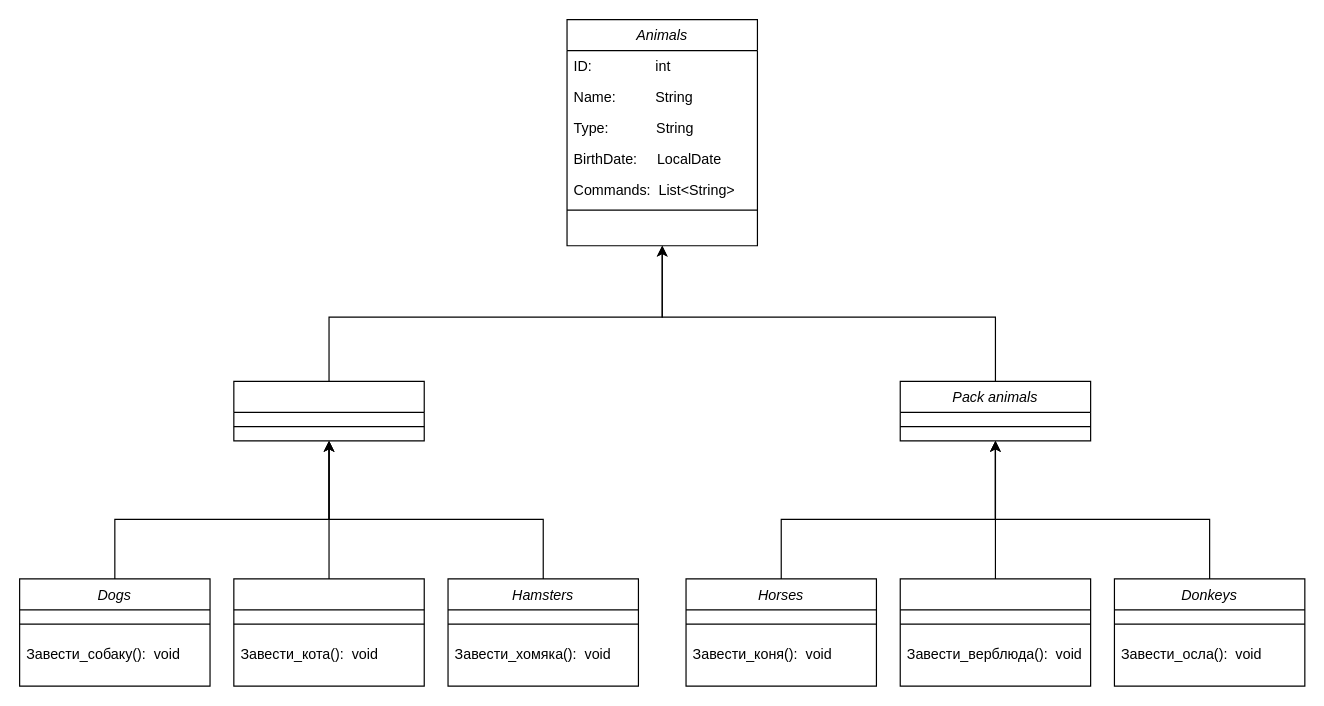
Image size: 1324x706. Some labels were removed from this diagram. The shapes that lost their labels are listed below. From the top down, each one's box as (x1, y1, x2, y2) in pixels, then its label:
(233, 380, 424, 441): Pets
(233, 578, 424, 686): Cats
(899, 578, 1091, 686): Camels
